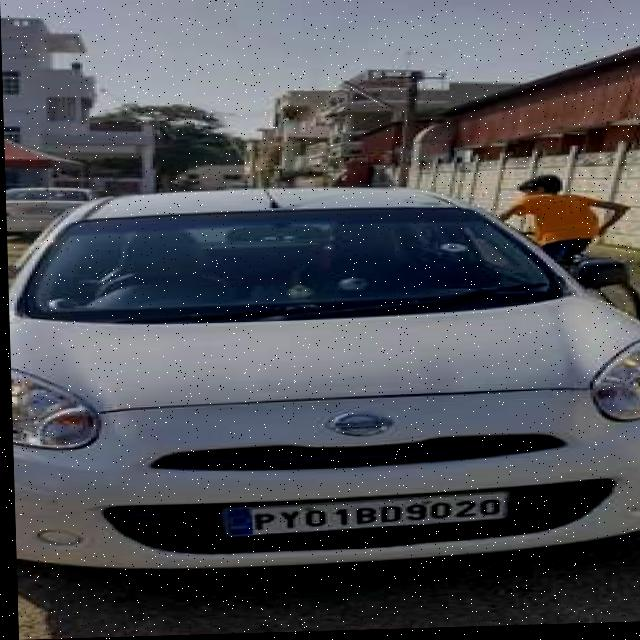plate: (218, 492, 507, 539)
